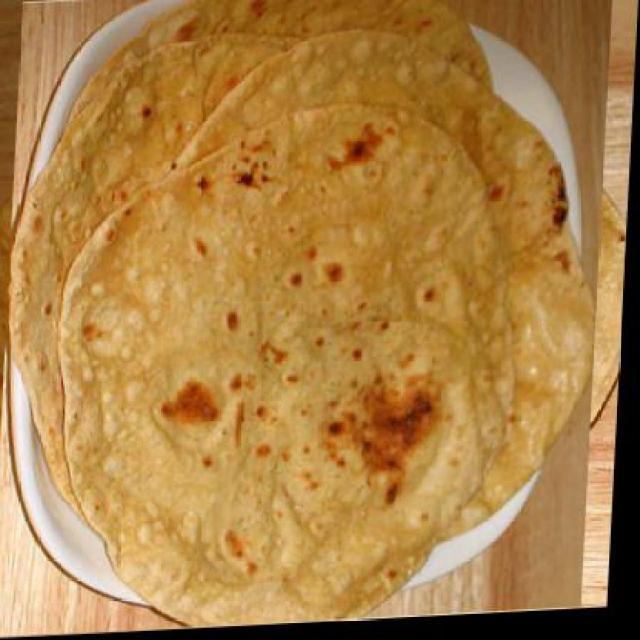chapati: (0, 0, 626, 631)
